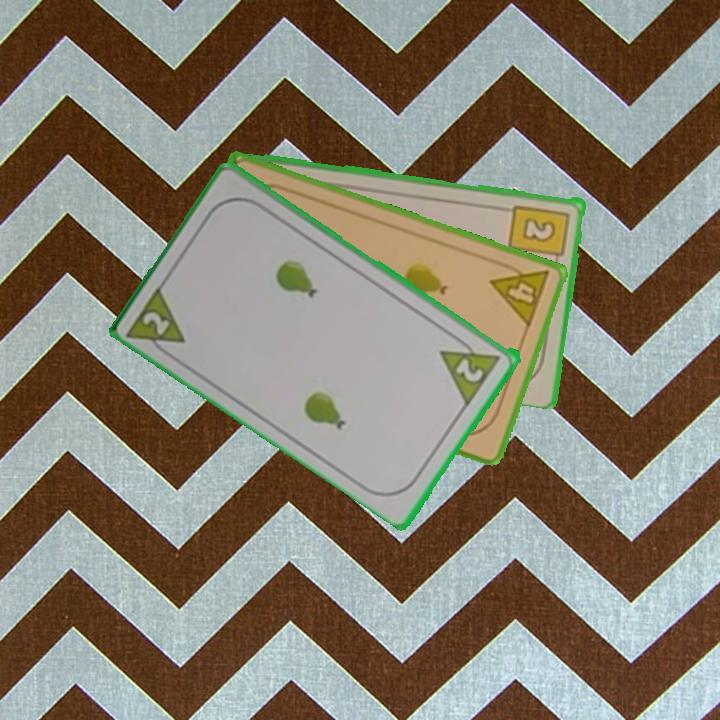2b: (506, 200, 573, 268)
2p: (124, 280, 190, 363), (437, 330, 504, 407)
4p: (487, 256, 553, 331)
